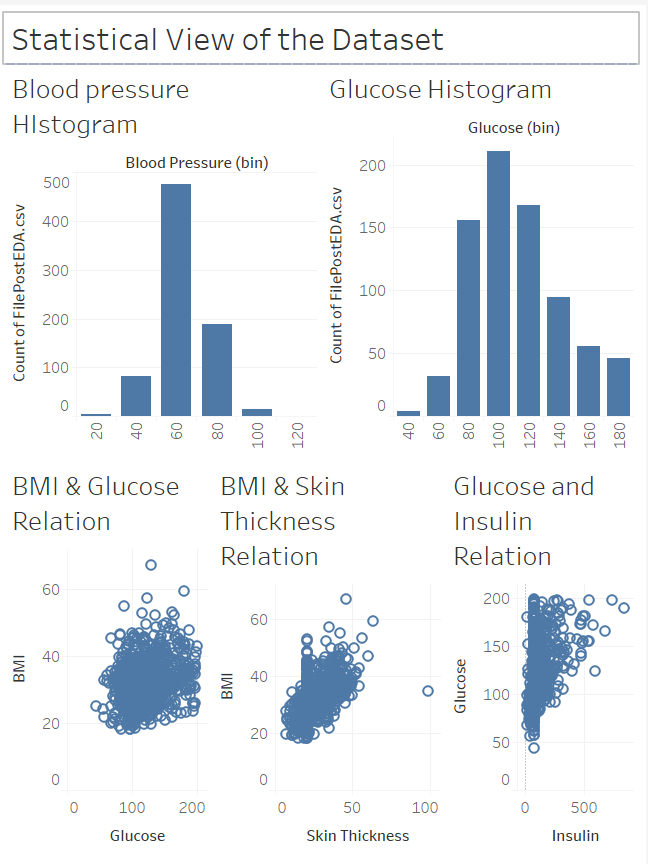

The dashboard page shown, as its layout file describes it:
{"tool":"tableau","page":{"name":"Statistical Dashboard","canvas":[650,860],"ordinal":1},"visuals":[{"type":"worksheet","box":[0,0,650,860]},{"type":"worksheet","param":"vert","box":[8,8,634,844]},{"type":"worksheet","box":[8,8,634,50]},{"type":"worksheet","box":[8,58,634,794]},{"type":"worksheet","title":"Blood pressure HIstogram","mark":"Automatic","rows":["FilePostEDA.csv_92F5D88F21F046DDA864A91F9D0F7DFE"],"cols":["Blood Pressure (bin)"],"box":[8,58,317,397]},{"type":"worksheet","title":"Glucose Histogram","mark":"Automatic","rows":["FilePostEDA.csv_92F5D88F21F046DDA864A91F9D0F7DFE"],"cols":["Glucose (bin)"],"box":[325,58,317,397]},{"type":"worksheet","title":"BMI & Glucose Relation","mark":"Automatic","rows":["BMI"],"cols":["Glucose"],"box":[8,455,208,397]},{"type":"worksheet","title":"BMI & Skin Thickness Relation","mark":"Automatic","rows":["BMI"],"cols":["SkinThickness"],"box":[216,455,233,397]},{"type":"worksheet","title":"Glucose and Insulin Relation","mark":"Automatic","rows":["Glucose"],"cols":["Insulin"],"box":[449,455,193,397]}]}

Visuals, with their boxes in screenshot pixels (x1, y1, x2, y2), scaled from the page's 650x860 canvas onto the 648x864 screenshot:
worksheet: pyautogui.locateOnScreen(0, 0, 647, 863)
worksheet: pyautogui.locateOnScreen(8, 8, 640, 856)
worksheet: pyautogui.locateOnScreen(8, 8, 640, 58)
worksheet: pyautogui.locateOnScreen(8, 58, 640, 856)
"Blood pressure HIstogram" worksheet: pyautogui.locateOnScreen(8, 58, 324, 457)
"Glucose Histogram" worksheet: pyautogui.locateOnScreen(324, 58, 640, 457)
"BMI & Glucose Relation" worksheet: pyautogui.locateOnScreen(8, 457, 215, 856)
"BMI & Skin Thickness Relation" worksheet: pyautogui.locateOnScreen(215, 457, 448, 856)
"Glucose and Insulin Relation" worksheet: pyautogui.locateOnScreen(448, 457, 640, 856)
